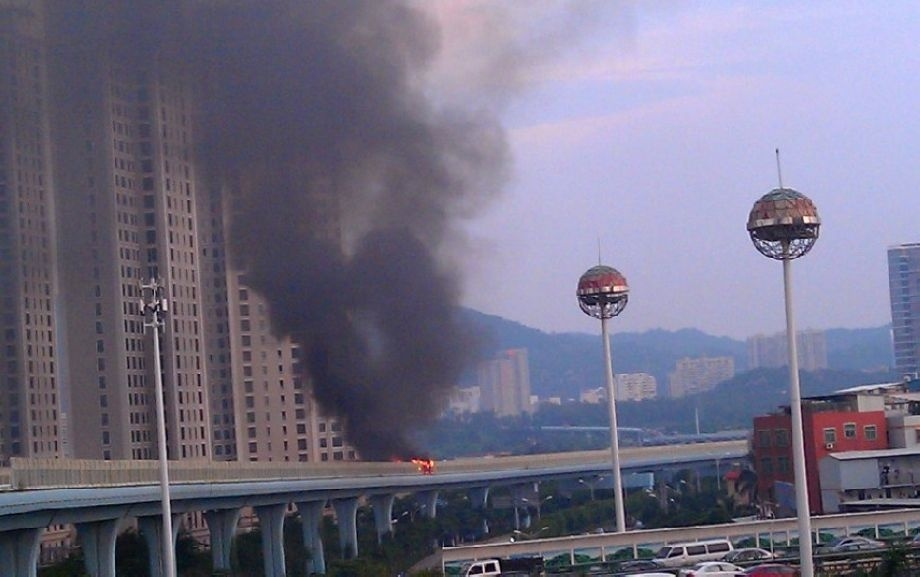fire: (395, 453, 435, 472)
